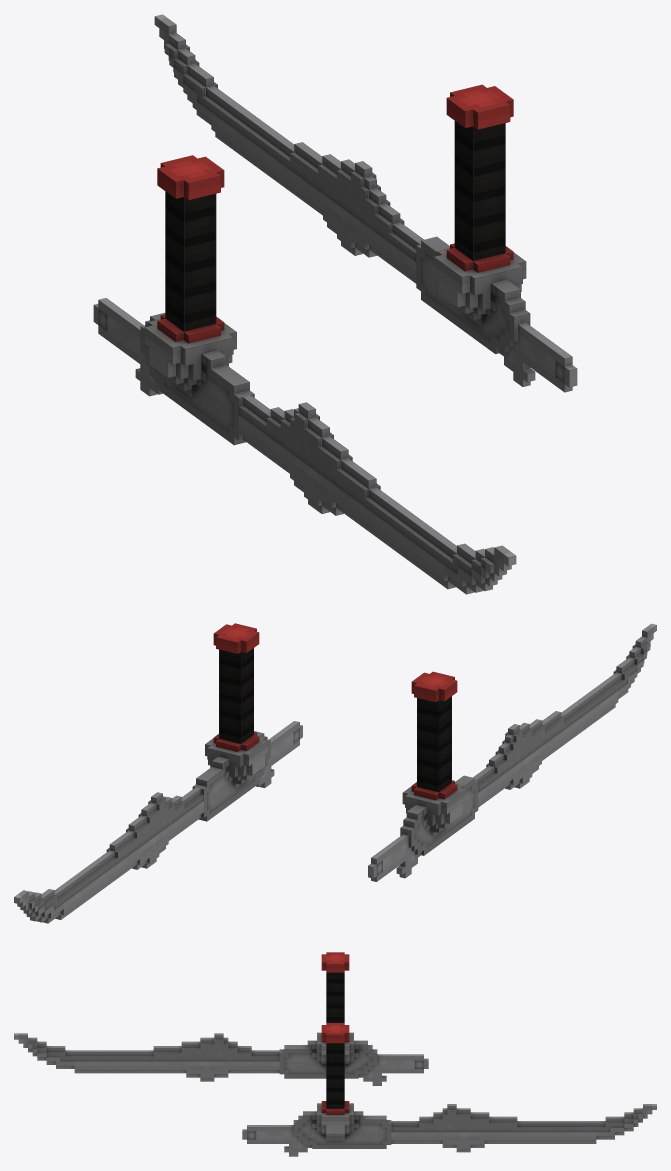
Rendered from RD_TWIN_BLADES.glb.
The picture shows the model from 3 angles, top to bottom: view 1: azimuth 30°, elevation 25°; view 2: azimuth 150°, elevation 25°; view 3: azimuth 270°, elevation 25°; orthographic projection. The views are drawn at different scales.
Visible parts, largest first — view 1: R_BLADE, L_BLADE; view 2: L_BLADE, R_BLADE; view 3: R_BLADE, L_BLADE.
Boxes of the visible parts, x1=… form: R_BLADE: x1=154, y1=14, x2=577, y2=392; L_BLADE: x1=93, y1=155, x2=516, y2=594; L_BLADE: x1=368, y1=623, x2=656, y2=881; R_BLADE: x1=14, y1=623, x2=302, y2=923; R_BLADE: x1=242, y1=1023, x2=656, y2=1156; L_BLADE: x1=14, y1=952, x2=428, y2=1085.
Bounding box in the file's own units: 0.614 × 0.42 × 1.93.
Materials: 1 (1 with a texture image).
